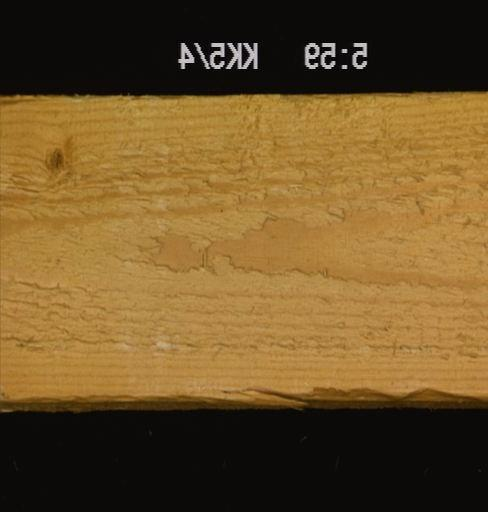small_knot: (40, 142, 67, 177)
split: (0, 93, 52, 107)
wave: (0, 377, 486, 407)
